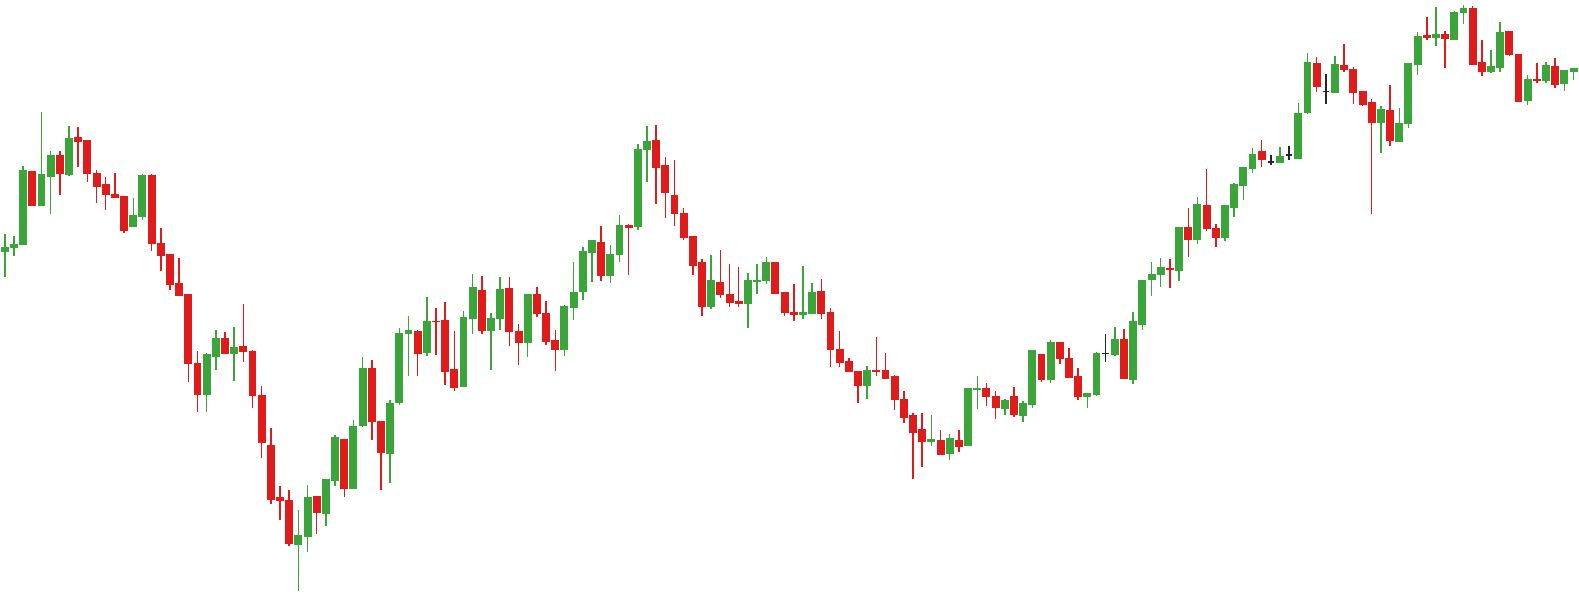buy: (514, 300, 570, 376)
